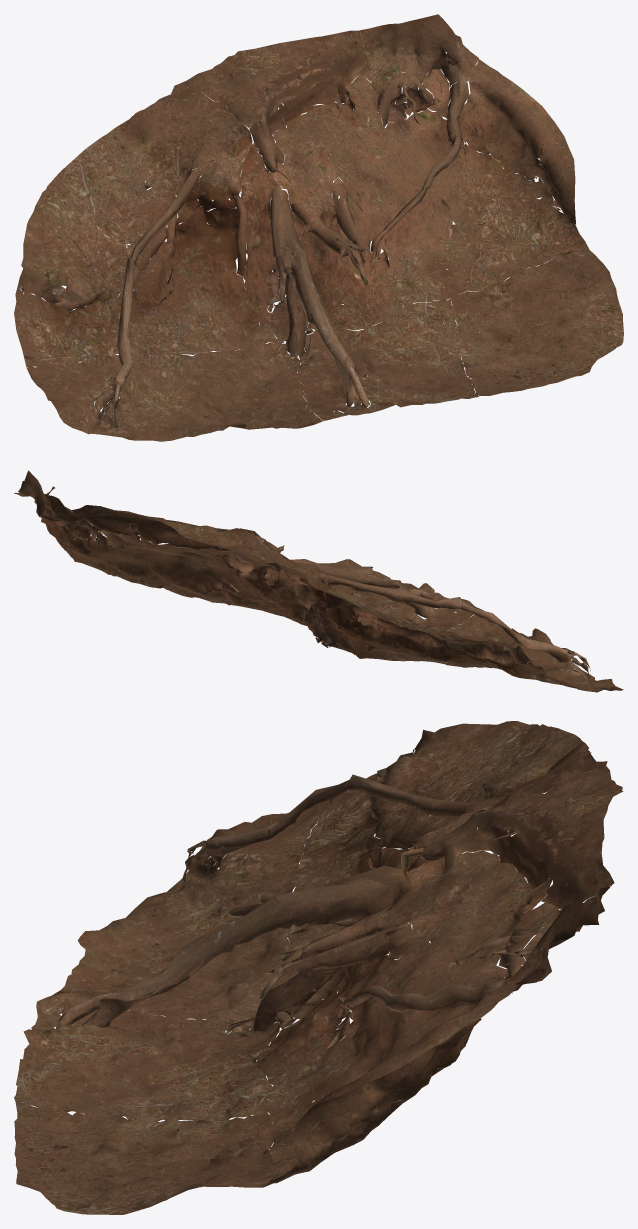
File: root_cluster_01.glb
3 views of the same model, one above another, from view 1: azimuth 30°, elevation 25°; view 2: azimuth 150°, elevation 25°; view 3: azimuth 270°, elevation 25° (orthographic). The views are drawn at different scales.
Visible parts, largest first — view 1: root_cluster_01; view 2: root_cluster_01; view 3: root_cluster_01.
Part boxes in pixels (left/top/right/bottom): root_cluster_01: left=14, top=14, right=623, bottom=441; root_cluster_01: left=14, top=470, right=623, bottom=692; root_cluster_01: left=14, top=721, right=623, bottom=1214.
Bounding box in the file's own units: 4.12 × 1.51 × 2.68.
1 material, 1 textured.
